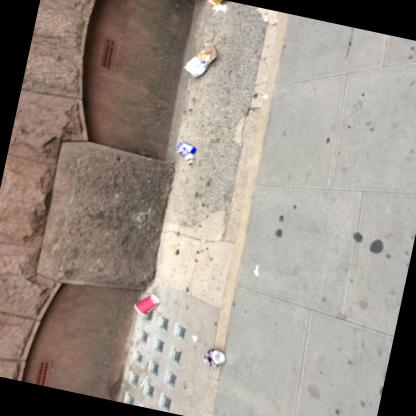Metal: (203, 348, 225, 366)
Paper: (134, 293, 159, 313)
Plastic: (183, 44, 217, 76)
Waste: (174, 140, 197, 159), (212, 2, 227, 12), (207, 0, 222, 6)
